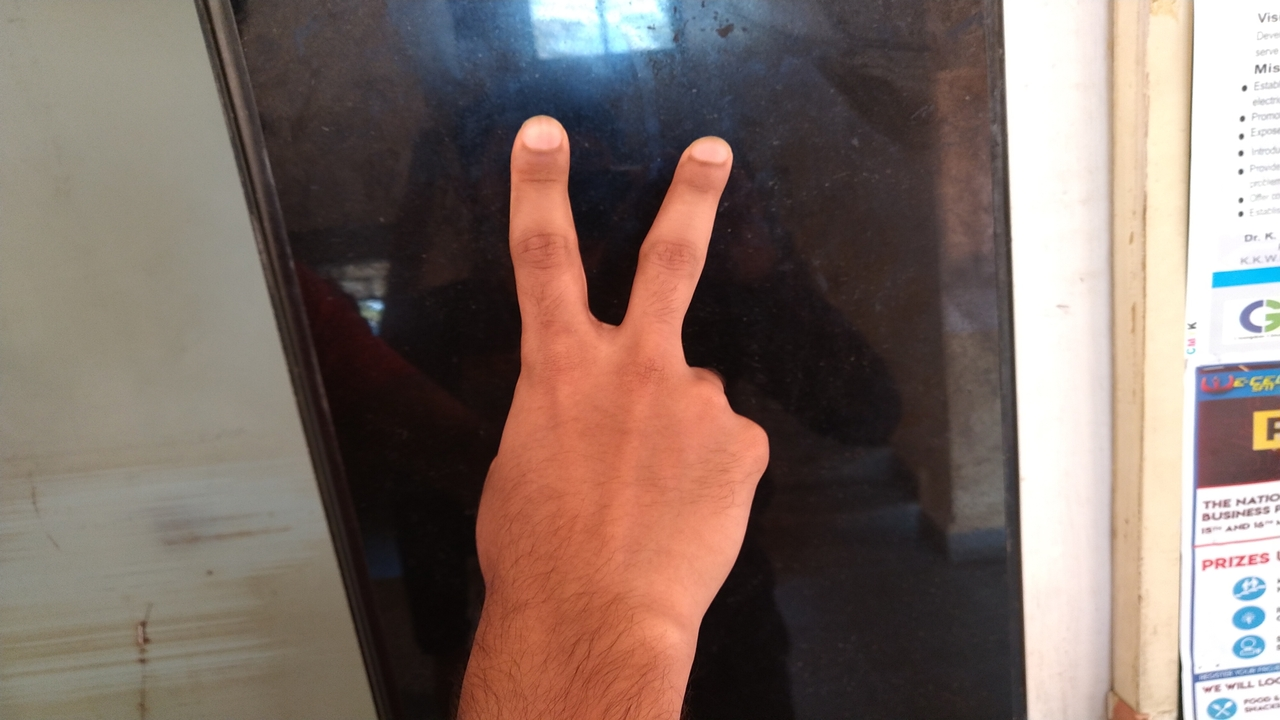fingertip: (502, 108, 572, 174), (668, 128, 740, 190)
